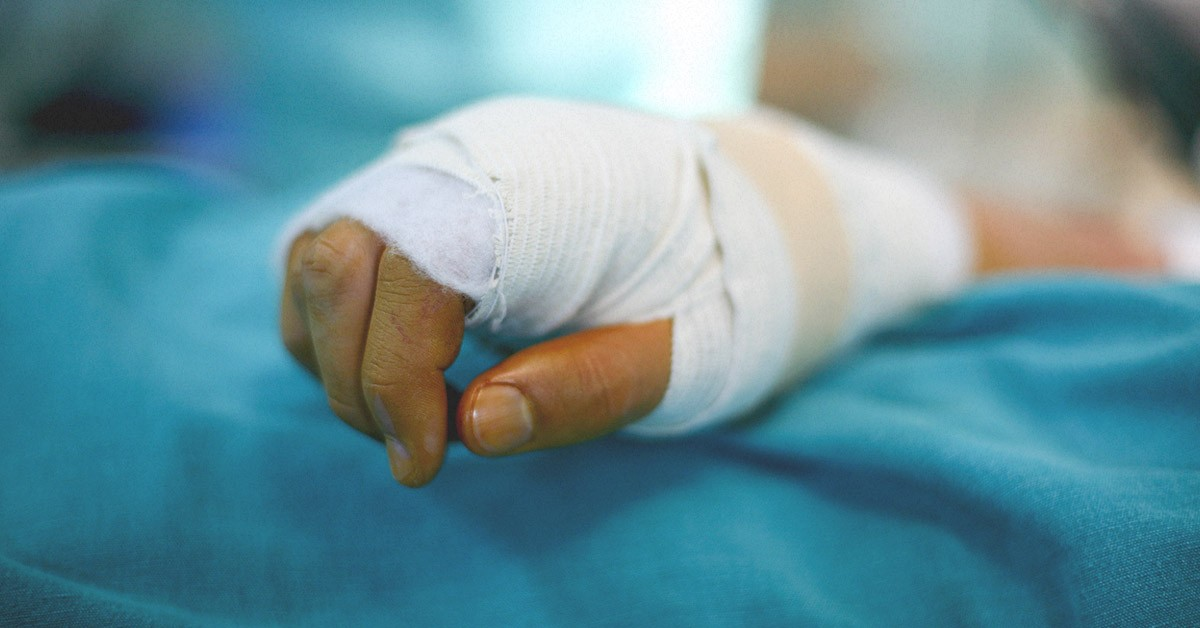injured: (258, 89, 961, 431)
